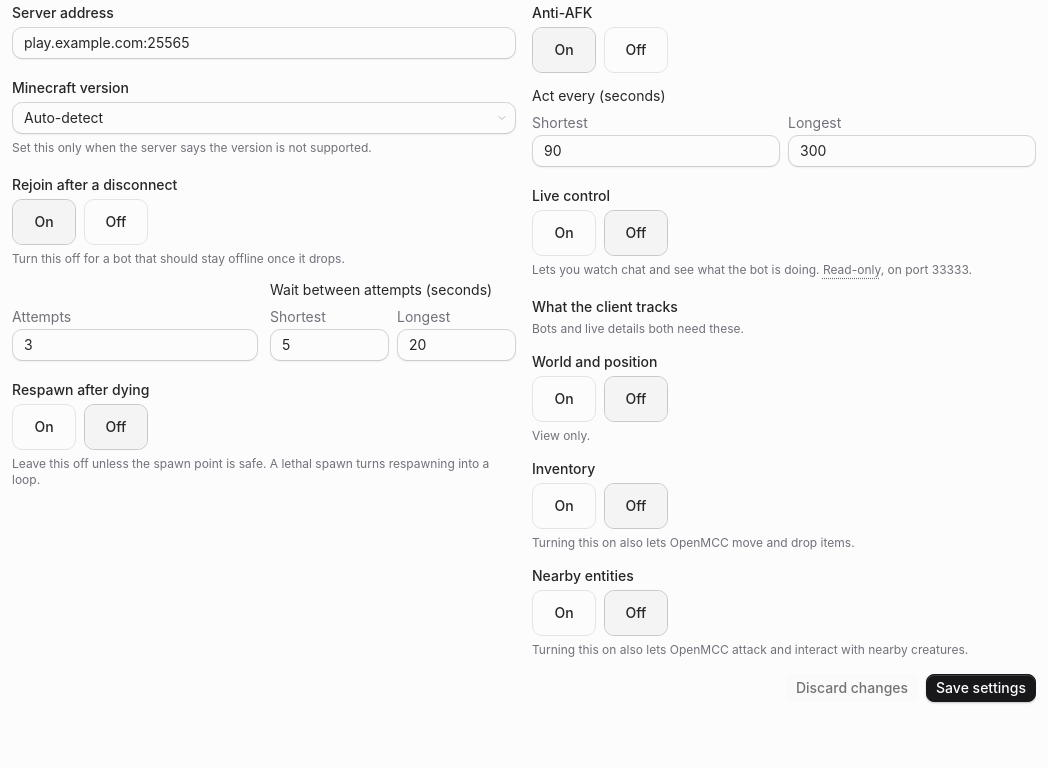
discarding an edit › puts the saved values back
Step 1. Replace the text in the field labelled "Server address" with "elsewhere.example.com" → (264, 43), box [13,28,515,58]
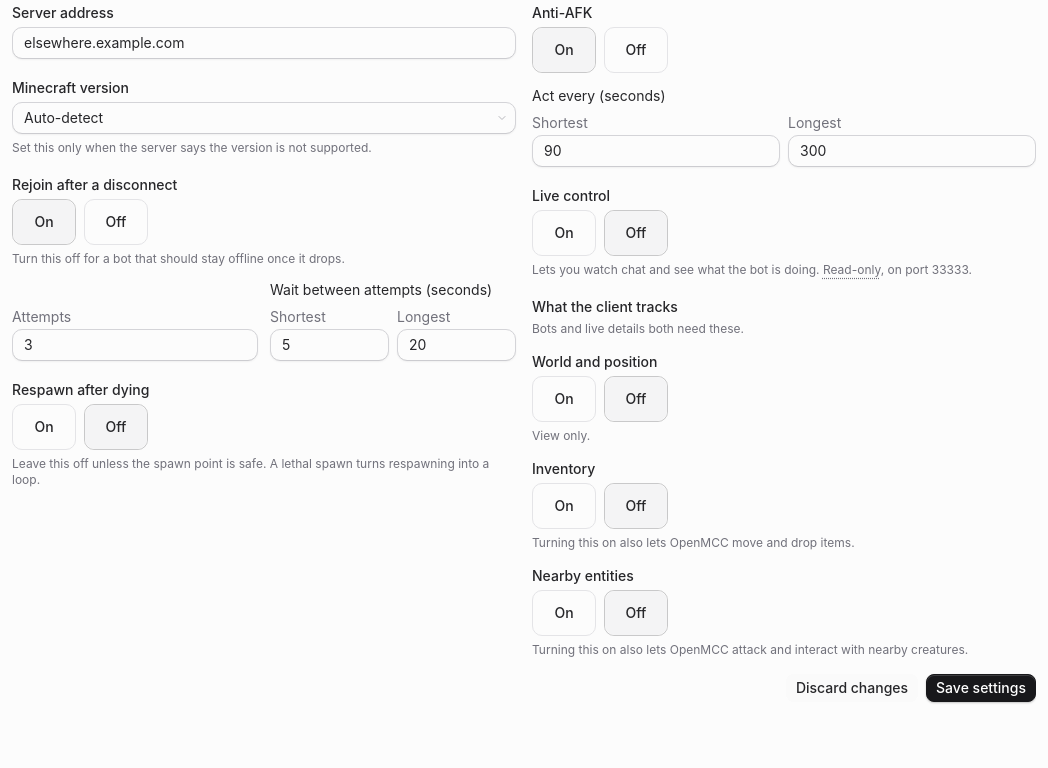
Step 2. Click the button "Discard changes" → (852, 688), box [786,674,918,702]
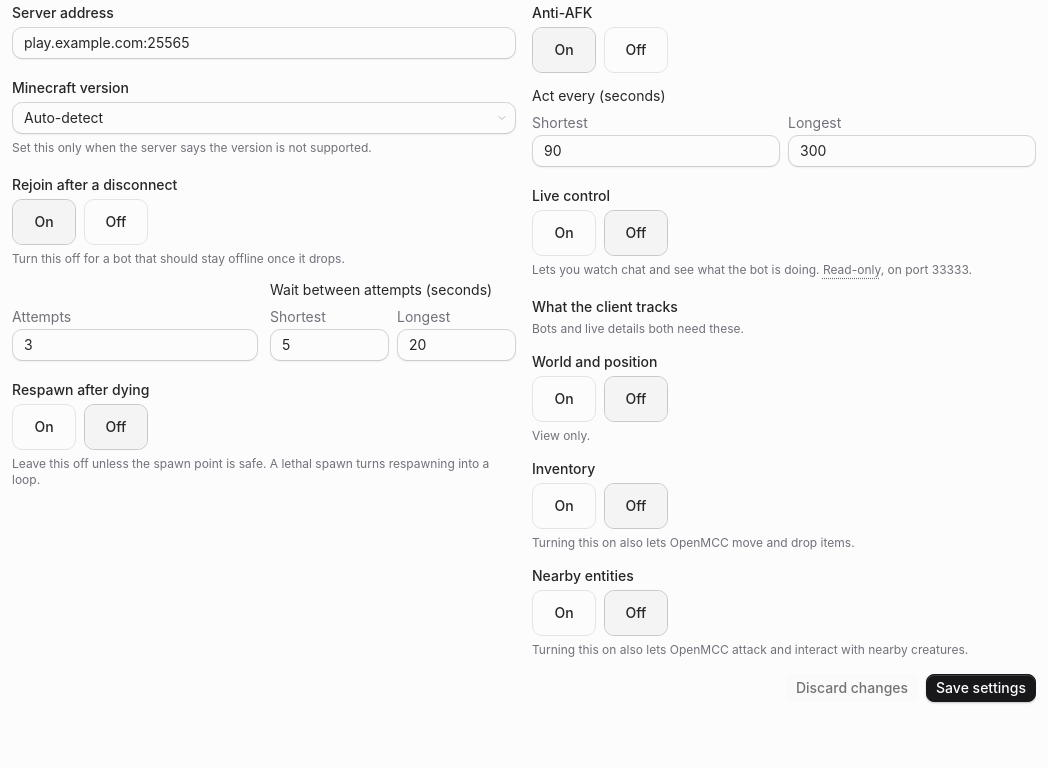
Expected: the field labelled "Server address" holds "play.example.com:25565", [13,28,515,58]
Expected: the button "Discard changes" is disabled, [786,674,918,702]
